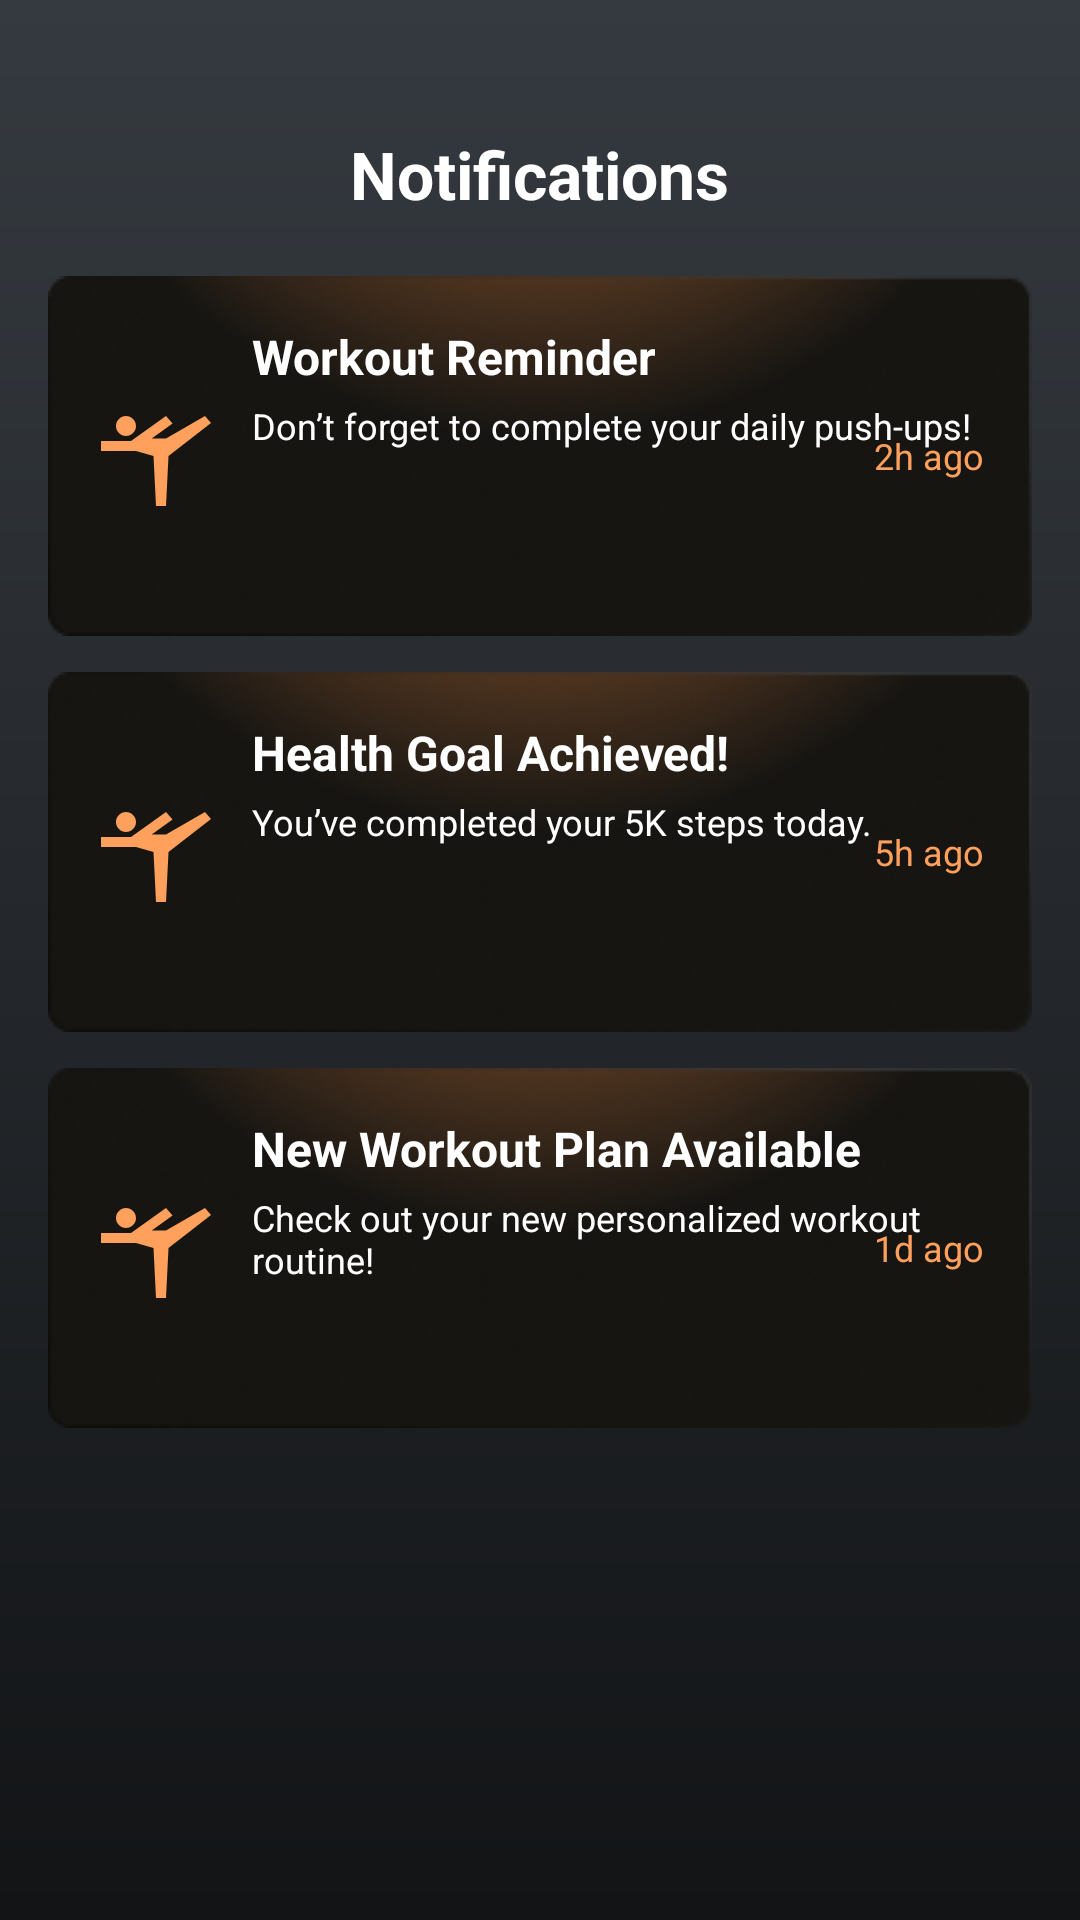

Named icons in this screenshot (1080w x 1920h) and their bounding boxes, [x1,y1,x2,y2]:
exercise: [101,416,211,506], [101,812,211,902], [101,1208,211,1298]
